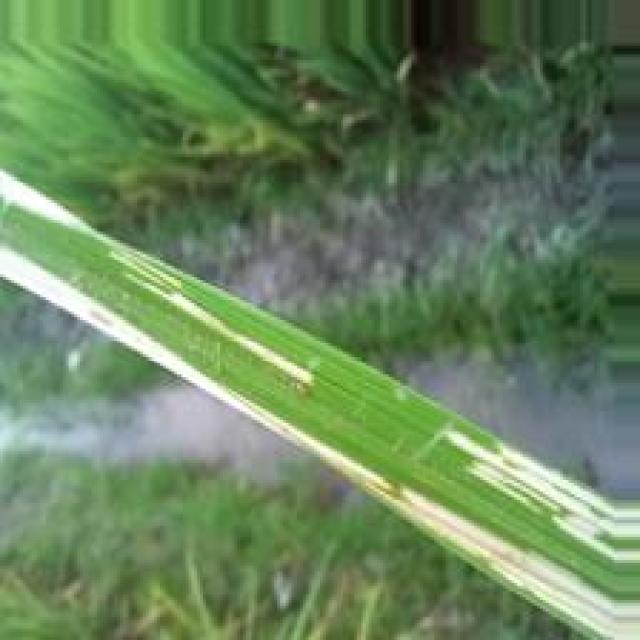Rice_Hispa: (0, 250, 640, 640), (0, 169, 306, 383), (442, 426, 640, 570)
